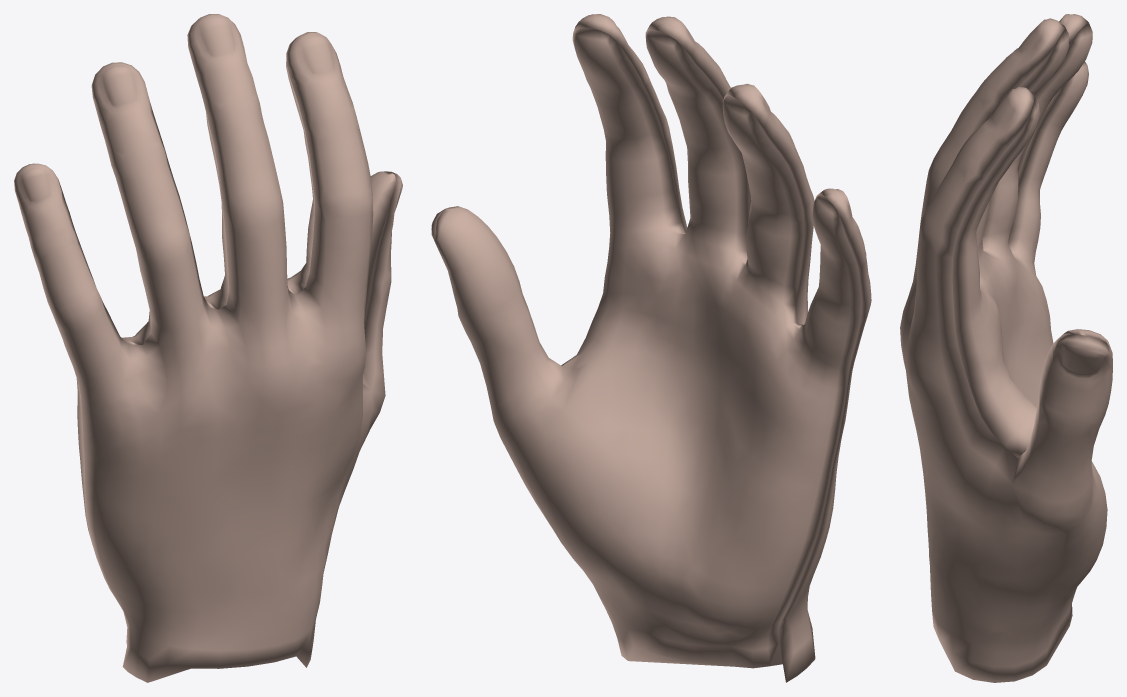
The model's file is human-hand.glb.
3 renders of one model, left to right at view 1: azimuth 30°, elevation 25°; view 2: azimuth 150°, elevation 25°; view 3: azimuth 270°, elevation 25°, orthographic. The views are drawn at different scales.
Visible parts, largest first — view 1: Human_hand; view 2: Human_hand; view 3: Human_hand.
Part boxes in pixels (x1,y1,x2,y2): Human_hand: [14, 14, 402, 682]; Human_hand: [431, 14, 871, 682]; Human_hand: [900, 14, 1112, 682].
Bounding box in the file's own units: 0.6445 × 1 × 0.3058.
